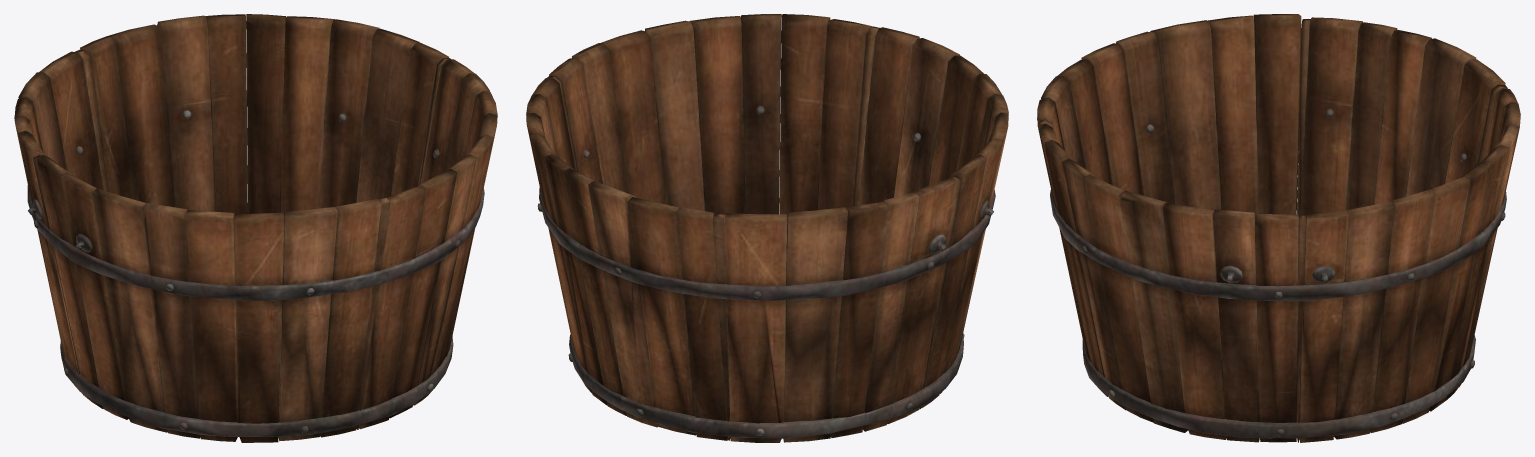
Rendered from wooden_bucket_02.gltf.
3 renders of one model, left to right at view 1: azimuth 30°, elevation 25°; view 2: azimuth 150°, elevation 25°; view 3: azimuth 270°, elevation 25°, orthographic.
Visible parts, largest first — view 1: wooden_bucket_02__x; view 2: wooden_bucket_02__x; view 3: wooden_bucket_02__x.
Boxes of the visible parts, x1=… form: wooden_bucket_02__x: x1=14, y1=14, x2=497, y2=442; wooden_bucket_02__x: x1=526, y1=14, x2=1008, y2=442; wooden_bucket_02__x: x1=1037, y1=14, x2=1520, y2=442.
Bounding box in the file's own units: 0.6149 × 0.3502 × 0.6155.
1 material, 1 textured.
